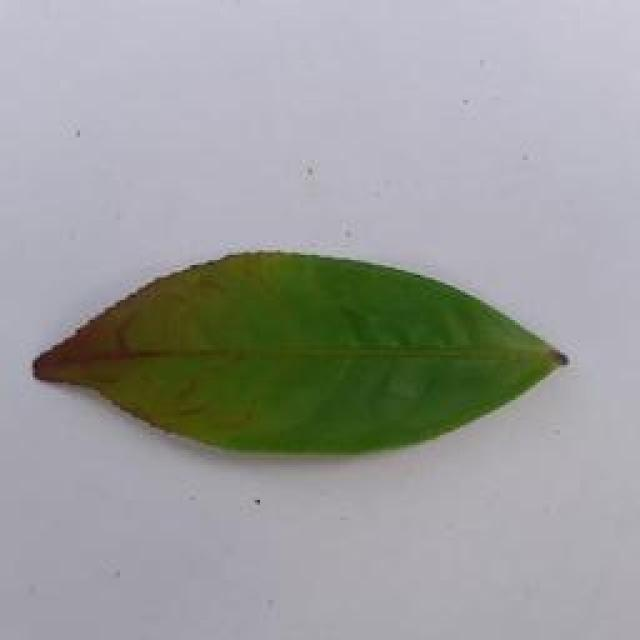Red Leaf Spot: (20, 235, 574, 465)
